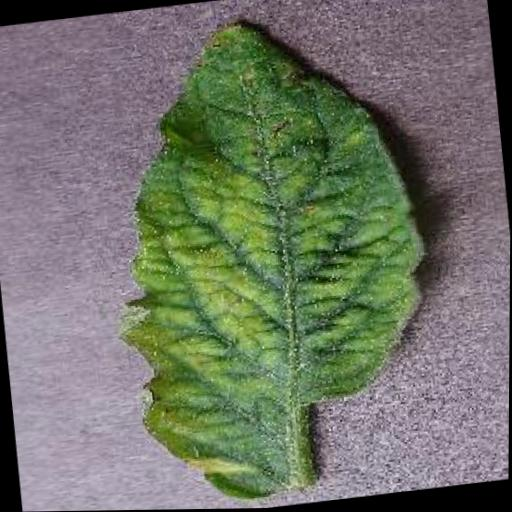Mosaic Virus: (88, 0, 457, 511)
